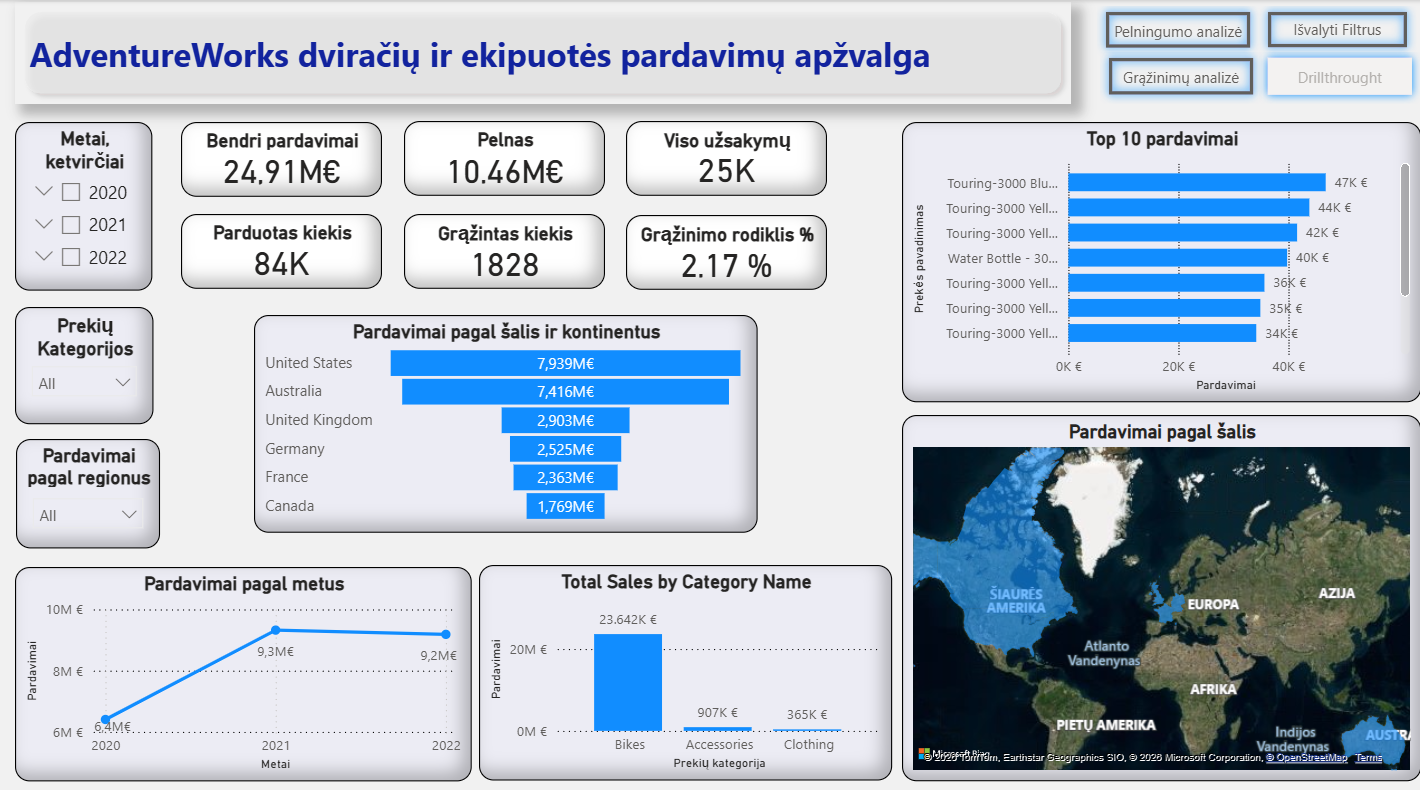

What the dashboard file says about the page in this screenshot:
{"tool":"powerbi","page":{"name":"Pardavimų apžvalga","canvas":[1280,720],"ordinal":0},"visuals":[{"type":"actionButton","box":[1134.8,2.3,140.5,47.6],"z":0},{"type":"card","title":"Bendri pardavimai","fields":{"Values":["Measure.Total Sales"]},"box":[169.6,109.2,180,67],"z":1000},{"type":"card","title":"Pelnas","fields":{"Values":["Measure.Total Profit"]},"box":[369.4,108,180,67.4],"z":2000},{"type":"card","title":"Viso užsakymų","fields":{"Values":["Measure.Total Orders"]},"box":[568,108,180,67],"z":3000},{"type":"card","title":"Parduotas kiekis","fields":{"Values":["Measure.Total Quantity"]},"box":[169.6,191.7,180,67],"z":4000},{"type":"card","title":"Grąžintas kiekis","fields":{"Values":["Measure.Return Quantity"]},"box":[369.4,191.7,180,67.4],"z":5000},{"type":"card","title":"Grąžinimo rodiklis %","fields":{"Values":["Measure.Return Rate %"]},"box":[568,192.8,180,67.4],"z":6000},{"type":"lineChart","title":"Pardavimai pagal metus","fields":{"Category":["Date.Year","Date.Quarter"],"Y":["Measure.Total Sales"]},"box":[20.9,507.6,408.9,191.7],"z":7000},{"type":"clusteredColumnChart","fields":{"Category":["products.Category Name"],"Y":["Measure.Total Sales"]},"box":[436.1,506,369.9,192.5],"z":8000},{"type":"barChart","title":"Top 10 pardavimai","fields":{"Category":["products.Product Name"],"Y":["Measure.Total Sales"]},"box":[815.4,108.9,464.6,251],"z":9000},{"type":"filledMap","title":"Pardavimai pagal šalis","fields":{"Category":["territory.Country"]},"box":[815.4,371.9,464.6,327.6],"z":10000},{"type":"slicer","title":"Metai, ketvirčiai","fields":{"Values":["Date.Year","Date.Quarter"]},"box":[20.9,109.2,123.1,151],"z":11000},{"type":"slicer","title":"Prekių Kategorijos","fields":{"Values":["products.Category Name"]},"box":[20.9,275.3,124.3,104.5],"z":12000},{"type":"slicer","title":"Pardavimai pagal regionus","fields":{"Values":["territory.Region"]},"box":[21.2,393.1,129,97.8],"z":13000},{"type":"funnel","title":"Pardavimai pagal šalis ir kontinentus","fields":{"Category":["territory.Country","territory.Continent"],"Y":["Measure.Total Sales"]},"box":[234.6,282.3,450.7,195.1],"z":14000},{"type":"actionButton","box":[21,2,945.8,90.8],"z":15000},{"type":"actionButton","box":[989.6,2.3,145.2,48],"z":16000},{"type":"actionButton","box":[991.9,44.1,145.2,48.8],"z":17000},{"type":"actionButton","box":[1134.8,44.1,145,48.8],"z":18000}]}

Visuals, with their boxes in screenshot pixels (x1, y1, x2, y2), scaled from the page's 1280x720 canvas onto the 1420x790 screenshot:
actionButton: 1259,3,1415,55
"Bendri pardavimai" card: 188,120,388,193
"Pelnas" card: 410,119,609,192
"Viso užsakymų" card: 630,119,830,192
"Parduotas kiekis" card: 188,210,388,284
"Grąžintas kiekis" card: 410,210,609,284
"Grąžinimo rodiklis %" card: 630,212,830,285
"Pardavimai pagal metus" lineChart: 23,557,477,767
clusteredColumnChart - products.Category Name x Measure.Total Sales: 484,555,894,766
"Top 10 pardavimai" barChart: 905,119,1419,395
"Pardavimai pagal šalis" filledMap: 905,408,1419,768
"Metai, ketvirčiai" slicer: 23,120,160,285
"Prekių Kategorijos" slicer: 23,302,161,417
"Pardavimai pagal regionus" slicer: 24,431,167,539
"Pardavimai pagal šalis ir kontinentus" funnel: 260,310,760,524
actionButton: 23,2,1073,102
actionButton: 1098,3,1259,55
actionButton: 1100,48,1261,102
actionButton: 1259,48,1419,102
